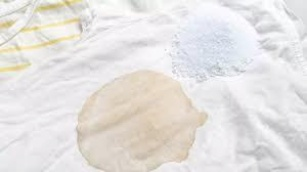coffee: (75, 71, 208, 172)
